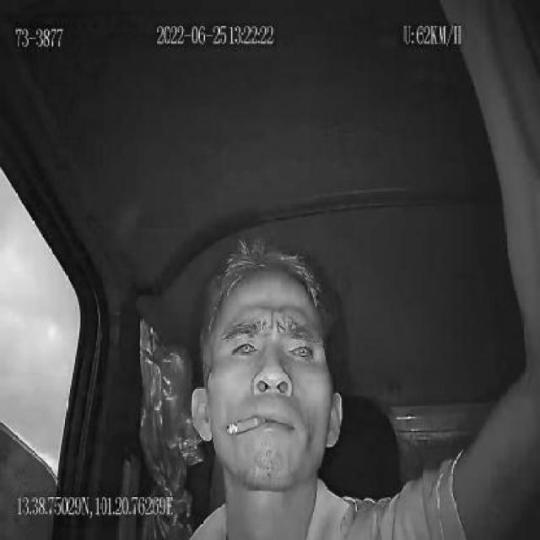smoking: (227, 416, 267, 437)
